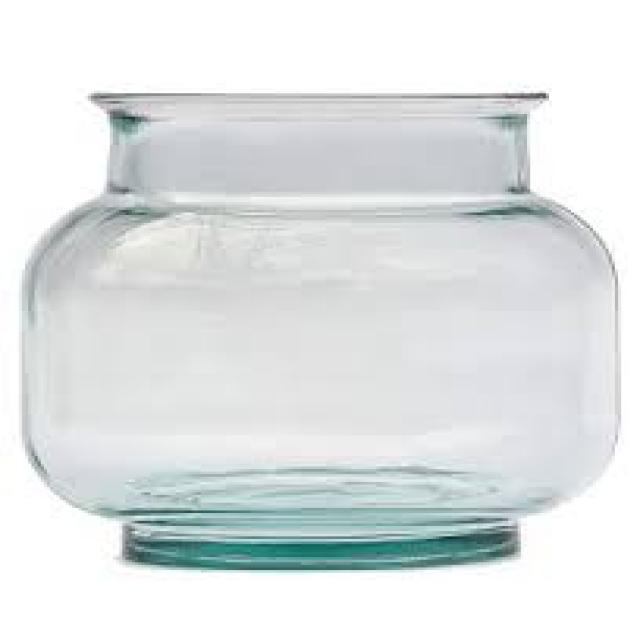glass: (22, 91, 612, 568)
